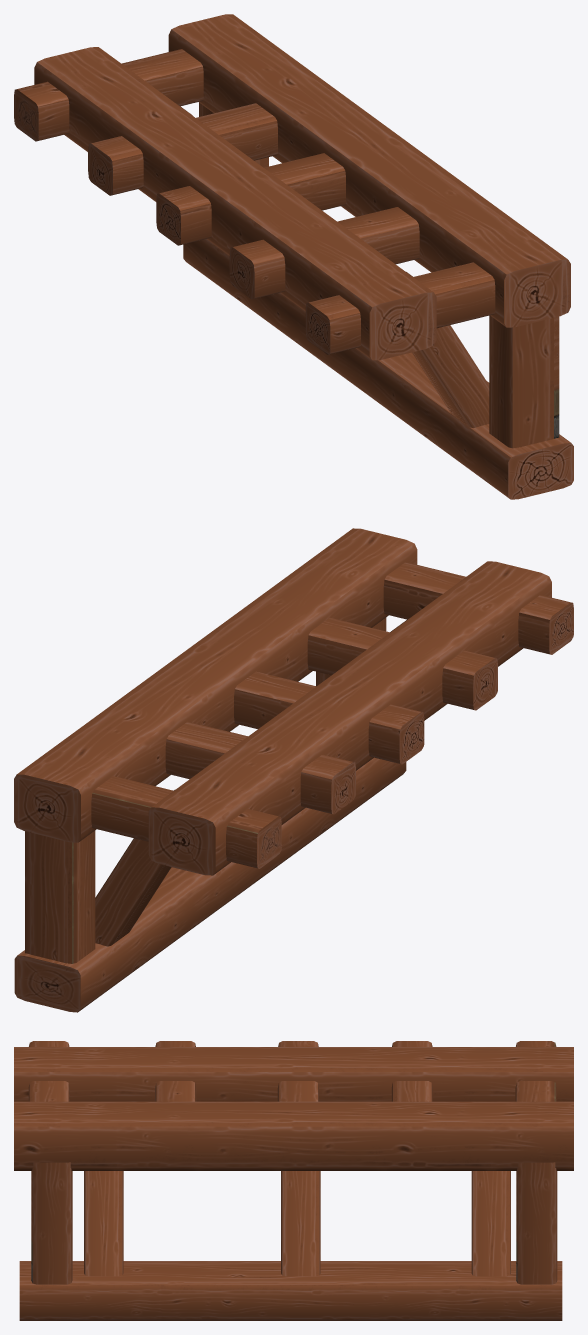
File: SM_Wood_Support.fbx
3 views of the same model, one above another, from view 1: azimuth 30°, elevation 25°; view 2: azimuth 150°, elevation 25°; view 3: azimuth 270°, elevation 25° (orthographic). The views are drawn at different scales.
Parts seen in each view (by area): view 1: SM_Wood_Support_LOD0; view 2: SM_Wood_Support_LOD0; view 3: SM_Wood_Support_LOD0.
Part boxes in pixels (bbox=[...]): SM_Wood_Support_LOD0: bbox=[14, 14, 573, 499]; SM_Wood_Support_LOD0: bbox=[14, 528, 573, 1012]; SM_Wood_Support_LOD0: bbox=[14, 1041, 573, 1320].
Bounding box in the file's own units: 266 × 648 × 248.
Materials: 1 (1 with a texture image).
